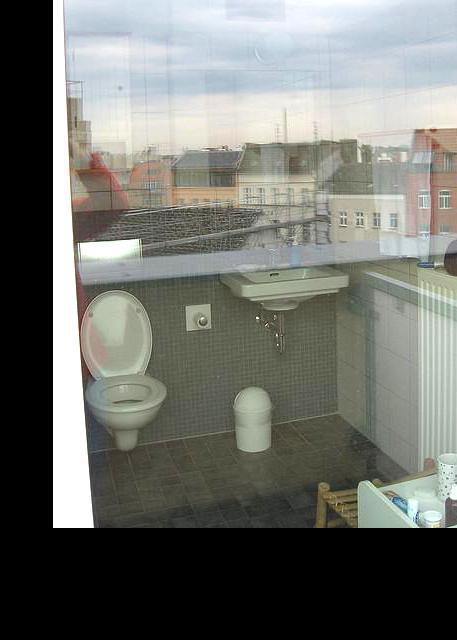Bote de Basura: (227, 387, 277, 452)
Lavamanos: (218, 232, 352, 306)
Sanitario: (78, 290, 175, 457)
